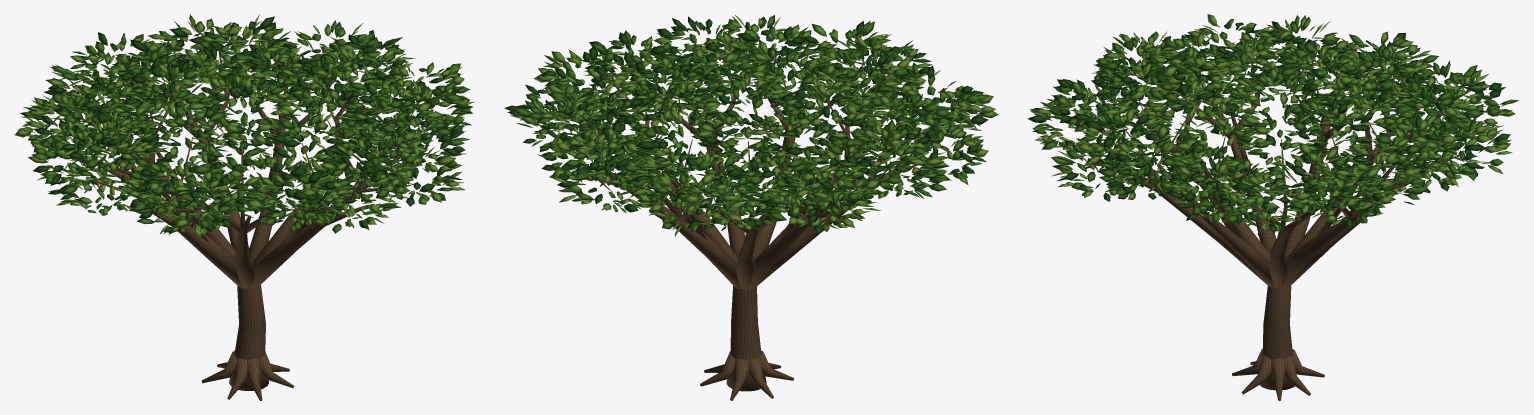
File: MV_Tree_Trembesi_8m.fbx
The picture shows the model from 3 angles, left to right: view 1: azimuth 30°, elevation 25°; view 2: azimuth 150°, elevation 25°; view 3: azimuth 270°, elevation 25°; orthographic projection.
Parts seen in each view (by area): view 1: LOD0_Mesh, LOD1_Mesh, LOD2_Mesh; view 2: LOD0_Mesh, LOD1_Mesh, LOD2_Mesh; view 3: LOD0_Mesh, LOD1_Mesh, LOD2_Mesh.
Part boxes in pixels (x1,y1,x2,y2): LOD0_Mesh: (14, 14, 474, 400); LOD1_Mesh: (81, 56, 416, 399); LOD2_Mesh: (82, 58, 418, 400); LOD0_Mesh: (504, 15, 998, 400); LOD1_Mesh: (566, 50, 923, 400); LOD2_Mesh: (579, 50, 925, 400); LOD0_Mesh: (1027, 14, 1518, 400); LOD1_Mesh: (1080, 50, 1458, 400); LOD2_Mesh: (1079, 56, 1459, 400).
Bounding box in the file's own units: 12.01 × 8 × 12.
